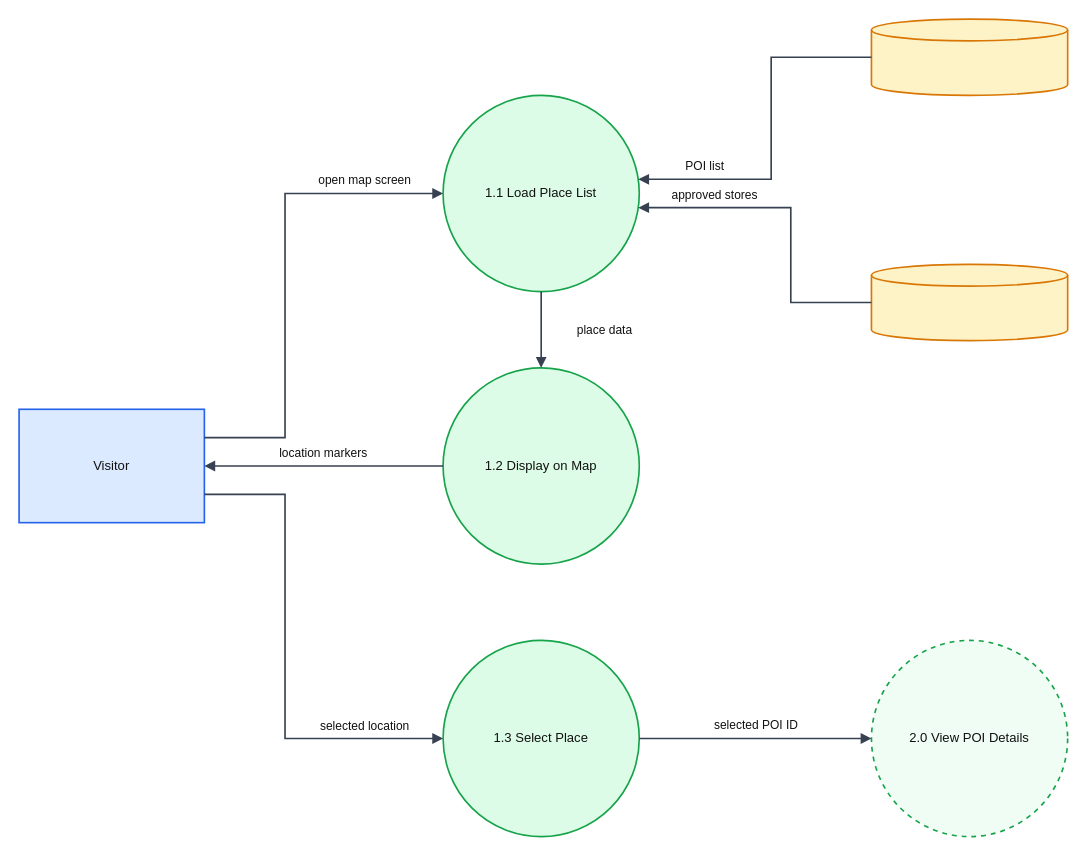
Image size: 1088x857. Some labels were removed from this diagram. The centre of each missing label's shape, as x and y in pixels:
D1 POI: (x=969, y=57)
D2 Stores: (x=969, y=302)
